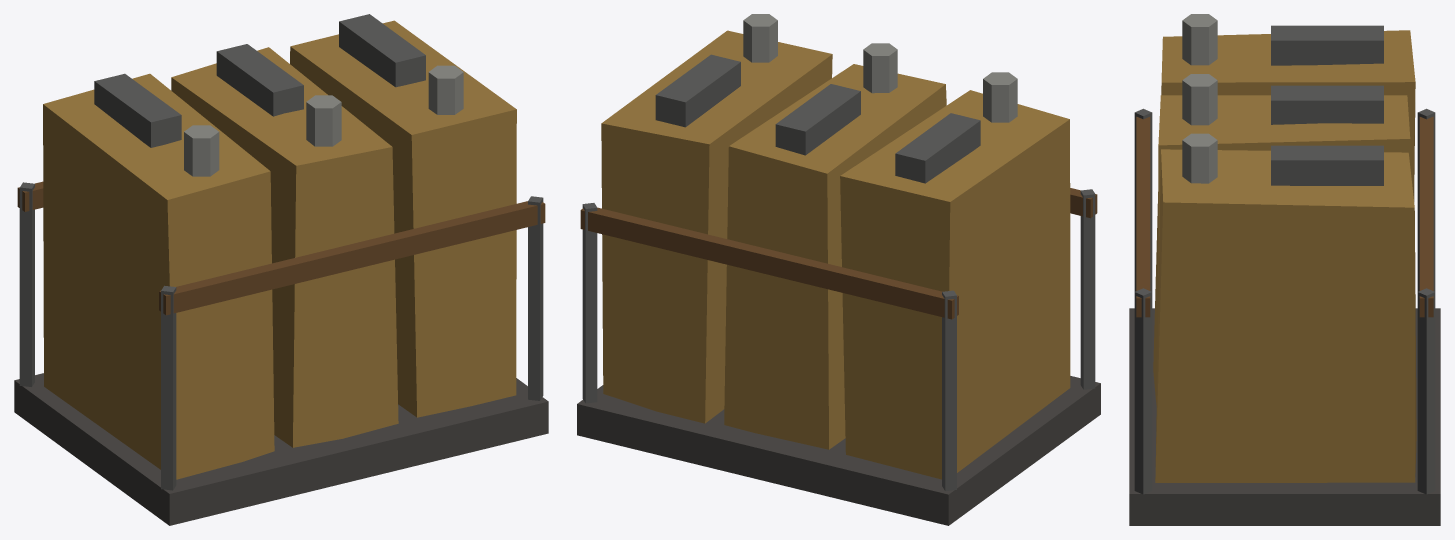
The model's file is store_jerrycans.glb.
3 renders of one model, left to right at view 1: azimuth 30°, elevation 25°; view 2: azimuth 150°, elevation 25°; view 3: azimuth 270°, elevation 25°, orthographic. The views are drawn at different scales.
Visible parts, largest first — view 1: store_jerrycans; view 2: store_jerrycans; view 3: store_jerrycans.
Boxes of the visible parts, <box> form: store_jerrycans: <box>14,14,548,525</box>; store_jerrycans: <box>577,14,1100,525</box>; store_jerrycans: <box>1129,14,1440,525</box>.
Bounding box in the file's own units: 0.625 × 0.55 × 0.44.
